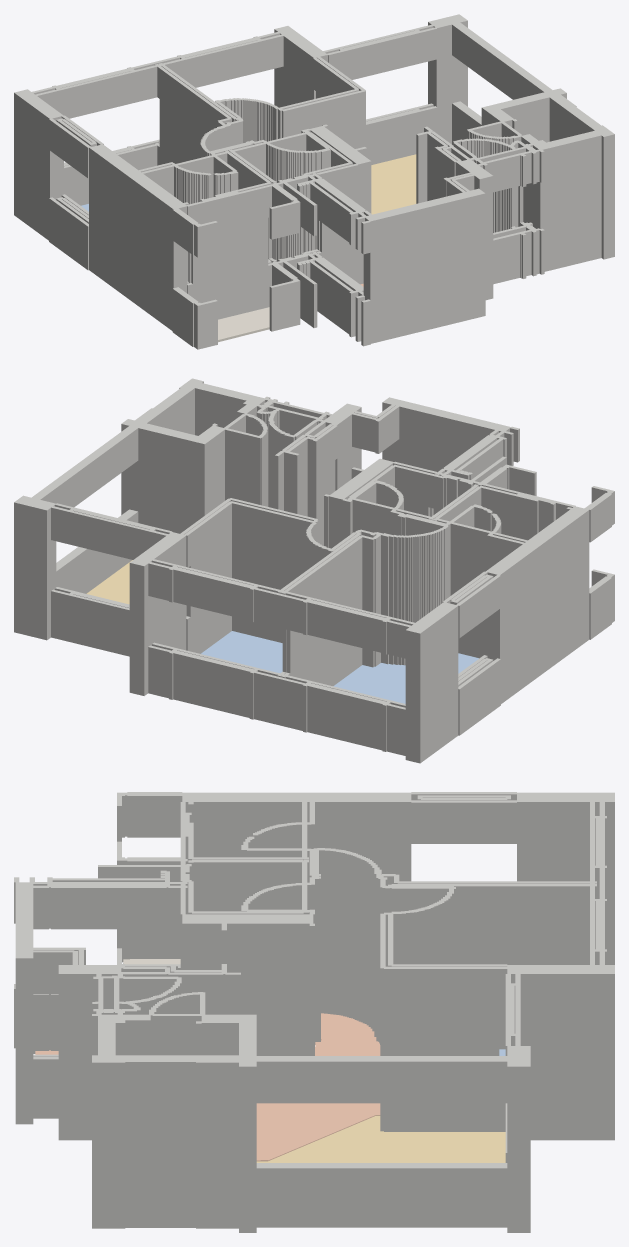
The picture shows the model from 3 angles, top to bottom: view 1: azimuth 30°, elevation 25°; view 2: azimuth 150°, elevation 25°; view 3: azimuth 270°, elevation 25°; orthographic projection. The views are drawn at different scales.
Parts seen in each view (by area): view 1: walls, room:living:2, room:other:13; view 2: walls, room:bedroom:0, room:bedroom:1, room:living:2; view 3: walls, room:kitchen:4, room:living:2.
Boxes of the visible parts, bbox=[...] form: walls: bbox=[14, 14, 614, 349]; room:living:2: bbox=[371, 154, 416, 214]; room:other:13: bbox=[218, 307, 269, 342]; walls: bbox=[14, 378, 614, 763]; room:bedroom:0: bbox=[333, 653, 478, 703]; room:bedroom:1: bbox=[201, 631, 282, 673]; room:living:2: bbox=[86, 560, 132, 604]; walls: bbox=[14, 792, 614, 1232]; room:kitchen:4: bbox=[256, 1013, 380, 1161]; room:living:2: bbox=[256, 1115, 505, 1162].
Bounding box in the file's own units: 9.93 × 2.8 × 9.18.
